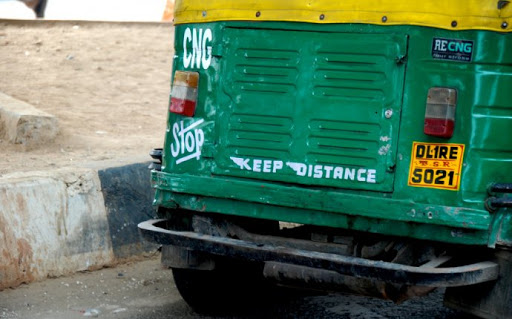doublelinenumberplate: (407, 140, 465, 191)
